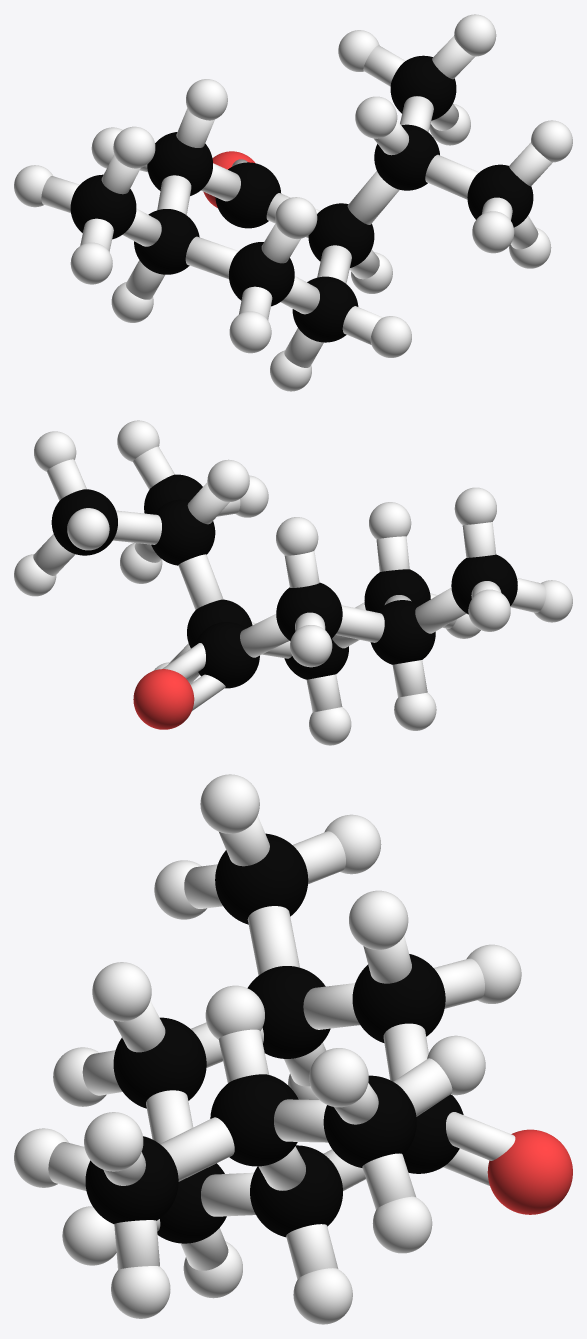
The picture shows the model from 3 angles, top to bottom: view 1: azimuth 30°, elevation 25°; view 2: azimuth 150°, elevation 25°; view 3: azimuth 270°, elevation 25°; orthographic projection. The views are drawn at different scales.
Visible parts, largest first — view 1: molecule; view 2: molecule; view 3: molecule.
Boxes of the visible parts, box(x1,y1,x2,y2) form: molecule: box(14, 14, 572, 391); molecule: box(14, 420, 572, 745); molecule: box(14, 774, 572, 1324).
Bounding box in the file's own units: 7.81 × 4.61 × 5.64.
